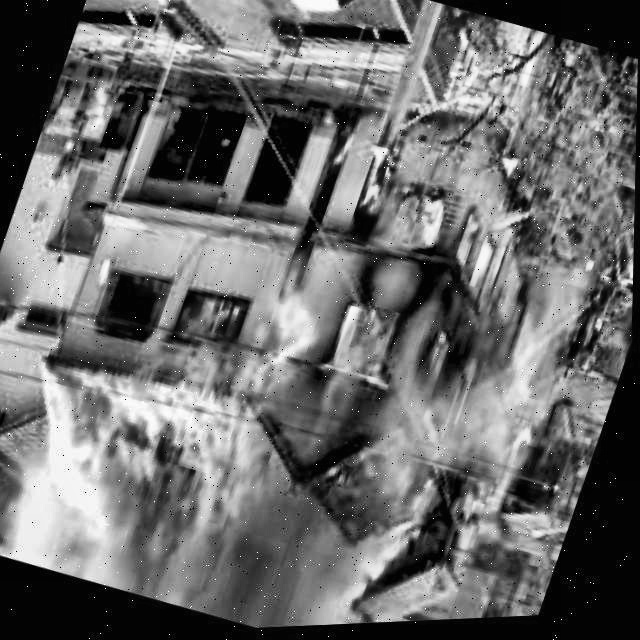Fire: (314, 300, 421, 402), (437, 213, 514, 319), (165, 280, 254, 367), (352, 141, 409, 234), (326, 121, 361, 174)
Smoke: (0, 336, 437, 640)
